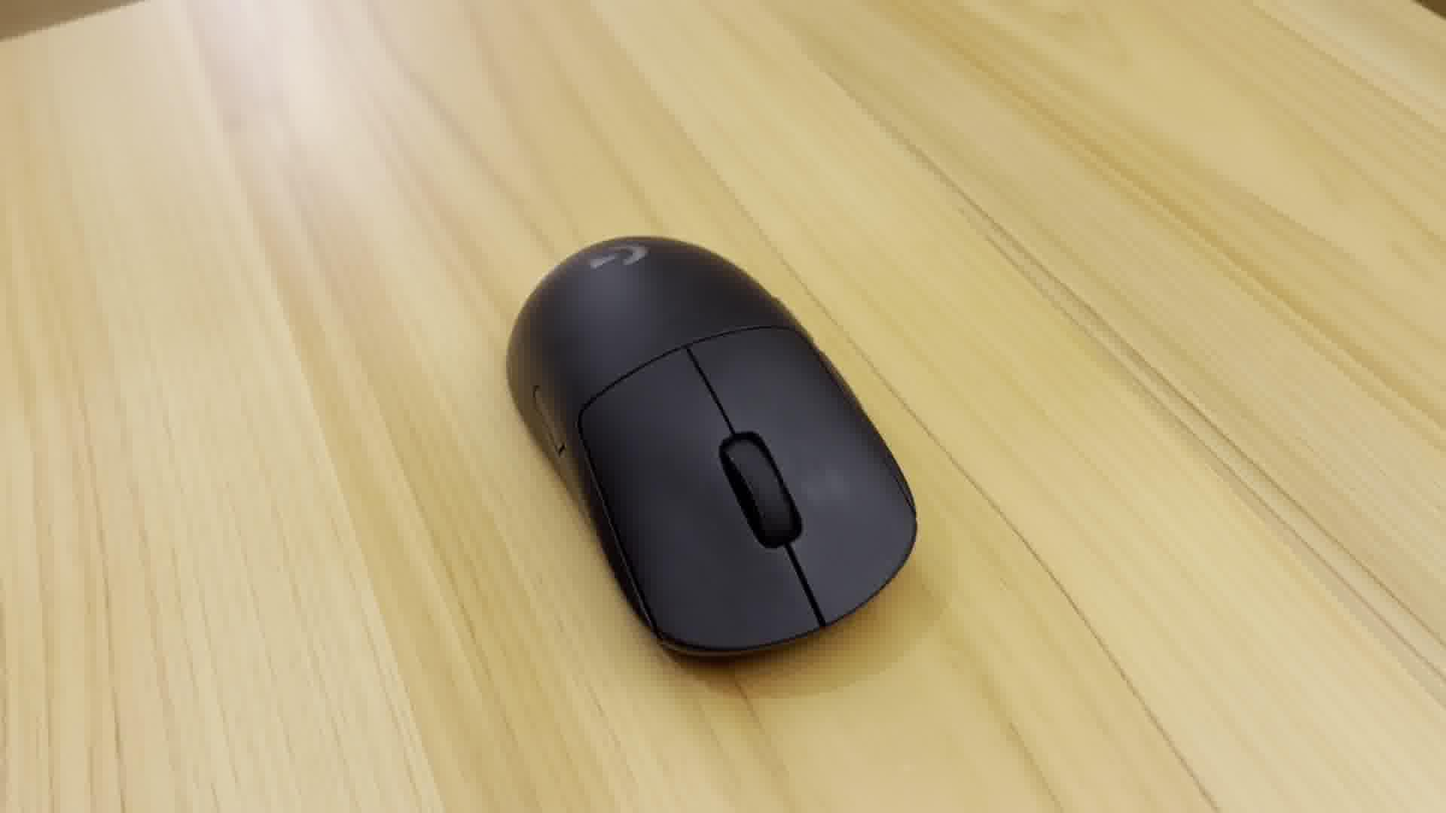logicool: (501, 224, 925, 671)
